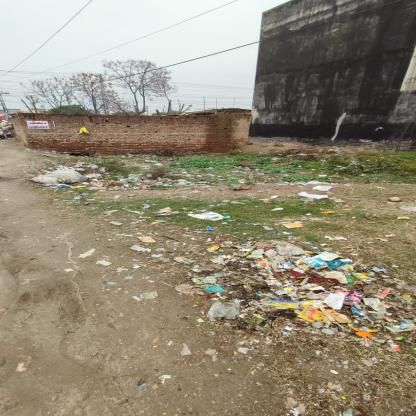Garbage: (160, 223, 416, 376), (37, 157, 302, 194)
